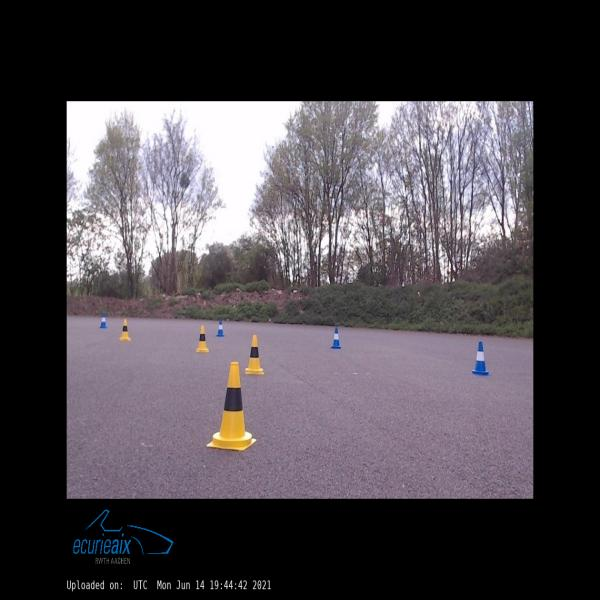blue_cone: (472, 342, 488, 374), (330, 328, 341, 348), (216, 320, 224, 336), (100, 313, 107, 327)
yellow_cone: (206, 362, 256, 451), (246, 335, 264, 374), (196, 326, 209, 352), (120, 319, 130, 340)
